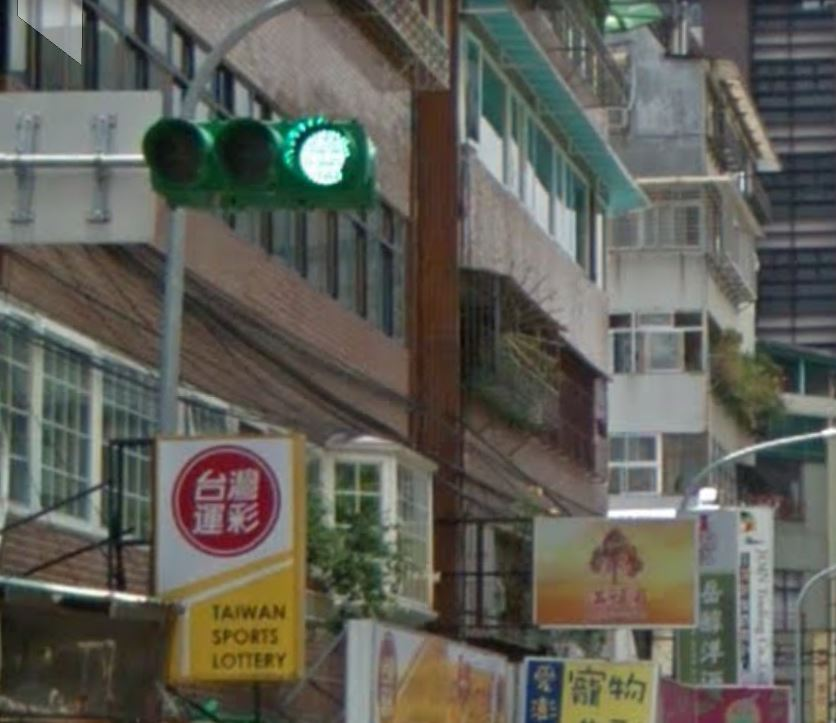Traffic_light_green: (139, 107, 386, 209)
